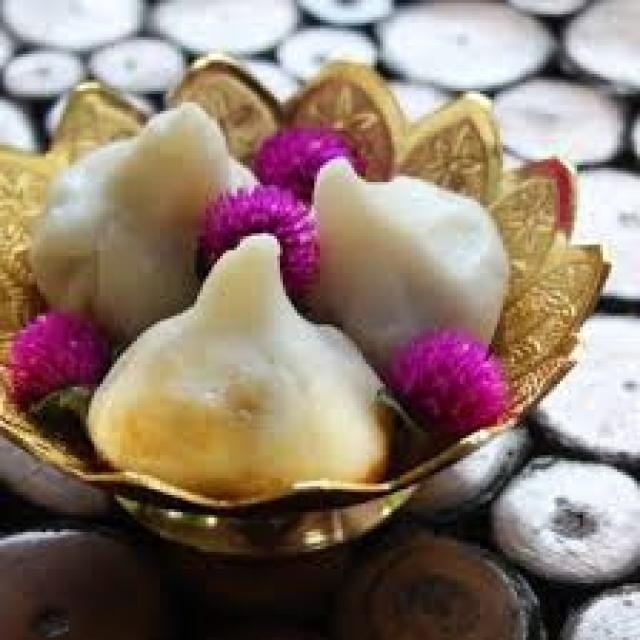poorna kolukattai: (18, 77, 486, 524)
